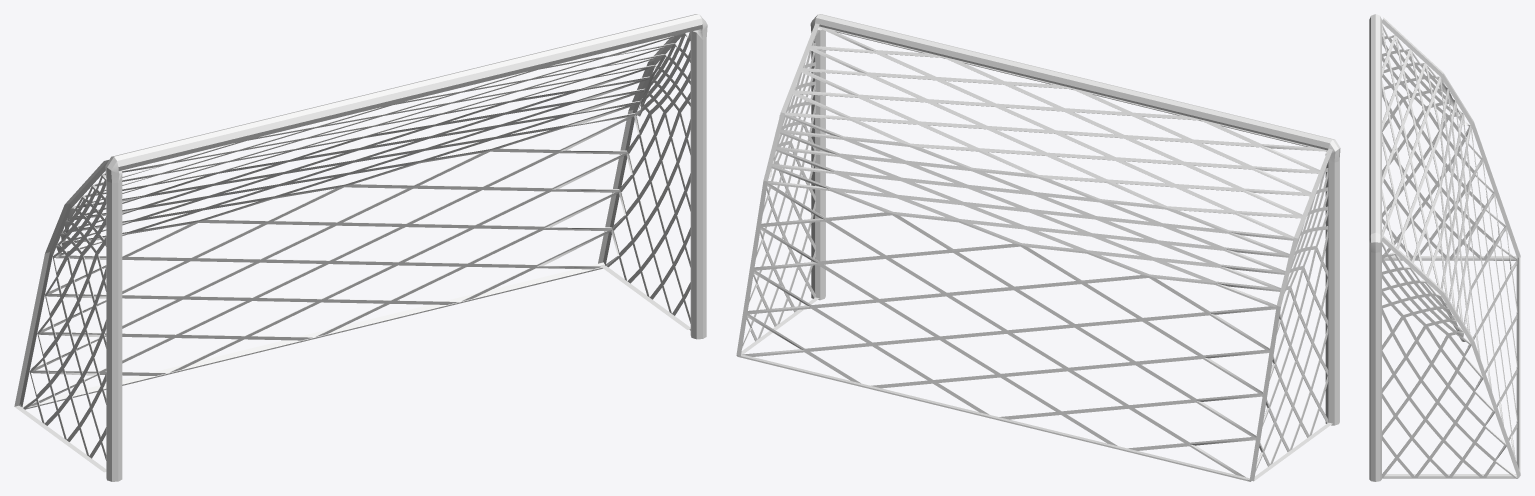
Rendered from trave.obj.
3 views of the same model, side by side, from view 1: azimuth 30°, elevation 25°; view 2: azimuth 150°, elevation 25°; view 3: azimuth 270°, elevation 25° (orthographic). The views are drawn at different scales.
Visible parts, largest first — view 1: Fillets, Buts, Fillets.001; view 2: Fillets, Buts, Fillets.001; view 3: Fillets, Buts, Fillets.001.
Boxes of the visible parts, bbox=[...] form: Fillets: bbox=[23, 32, 690, 460]; Buts: bbox=[105, 14, 707, 481]; Fillets.001: bbox=[14, 34, 690, 472]; Fillets: bbox=[737, 26, 1328, 481]; Buts: bbox=[810, 14, 1340, 425]; Fillets.001: bbox=[736, 23, 1332, 481]; Fillets: bbox=[1382, 24, 1517, 478]; Buts: bbox=[1369, 14, 1381, 481]; Fillets.001: bbox=[1382, 17, 1520, 478].
Bounding box in the file's own units: 9.96 × 5.12 × 2.85.
Materials: 1 (1 with a texture image).
